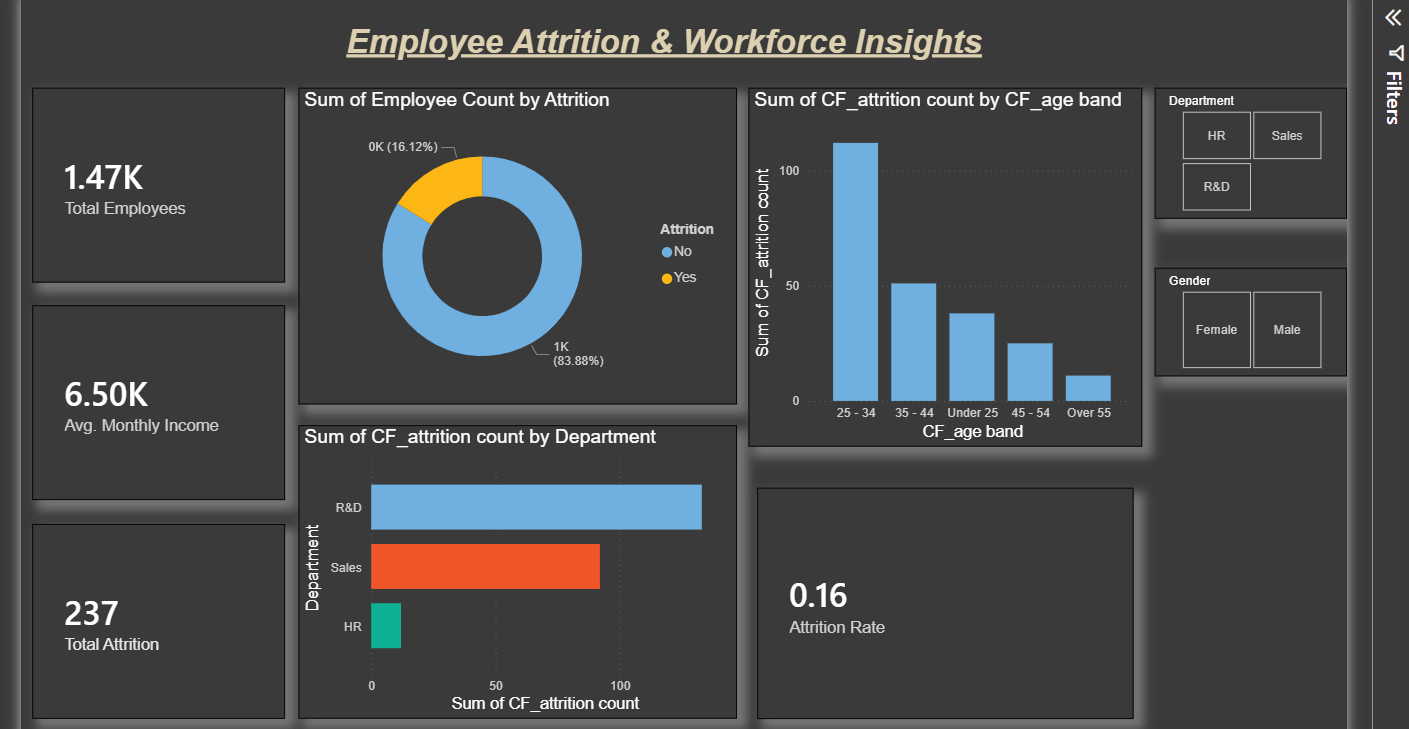

What the dashboard file says about the page in this screenshot:
{"tool":"powerbi","page":{"name":"Page 1","canvas":[1280,720],"ordinal":0},"visuals":[{"type":"cardVisual","fields":{"Data":["CountNonNull(Table_1.Employee Count)"]},"box":[11,90.6,244.3,188],"z":0},{"type":"cardVisual","fields":{"Data":["Avg(Table_1.Monthly Income)"]},"box":[11,300.5,244.3,188],"z":1},{"type":"cardVisual","fields":{"Data":["Sum(Table_1.CF_attrition count)"]},"box":[11,511.8,244.3,188],"z":2},{"type":"donutChart","fields":{"Category":["Table_1.Attrition"],"Y":["Sum(Table_1.Employee Count)"]},"box":[267.8,90.5,423.5,305.2],"z":3},{"type":"barChart","fields":{"Category":["Table_1.Department"],"Y":["Sum(Table_1.CF_attrition count)"]},"box":[267.8,416.2,423.5,283.5],"z":4},{"type":"clusteredColumnChart","fields":{"Category":["Table_1.CF_age band"],"Y":["Sum(Table_1.CF_attrition count)"]},"box":[702.1,90.5,380,346.2],"z":5},{"type":"textbox","box":[113.4,22.9,1014.6,54.3],"z":7},{"type":"cardVisual","fields":{"Data":["Avg(Table_1.CF_attrition rate)"]},"box":[710.6,476.5,363.1,223.2],"z":8},{"type":"slicer","fields":{"Values":["Table_1.Department"]},"box":[1094.2,90.5,185.8,126.7],"z":9},{"type":"slicer","fields":{"Values":["Table_1.Gender"]},"box":[1094.2,264.2,185.8,105],"z":10}]}

Visuals, with their boxes in screenshot pixels (x1, y1, x2, y2):
cardVisual - CountNonNull(Table_1.Employee Count): <bbox>66, 102, 310, 290</bbox>
cardVisual - Avg(Table_1.Monthly Income): <bbox>66, 312, 310, 500</bbox>
cardVisual - Sum(Table_1.CF_attrition count): <bbox>66, 523, 310, 711</bbox>
donutChart - Table_1.Attrition x Sum(Table_1.Employee Count): <bbox>323, 102, 746, 407</bbox>
barChart - Table_1.Department x Sum(Table_1.CF_attrition count): <bbox>323, 427, 746, 711</bbox>
clusteredColumnChart - Table_1.CF_age band x Sum(Table_1.CF_attrition count): <bbox>757, 102, 1137, 448</bbox>
textbox: <bbox>168, 34, 1183, 88</bbox>
cardVisual - Avg(Table_1.CF_attrition rate): <bbox>766, 488, 1129, 711</bbox>
slicer - Table_1.Department: <bbox>1149, 102, 1335, 228</bbox>
slicer - Table_1.Gender: <bbox>1149, 275, 1335, 380</bbox>
